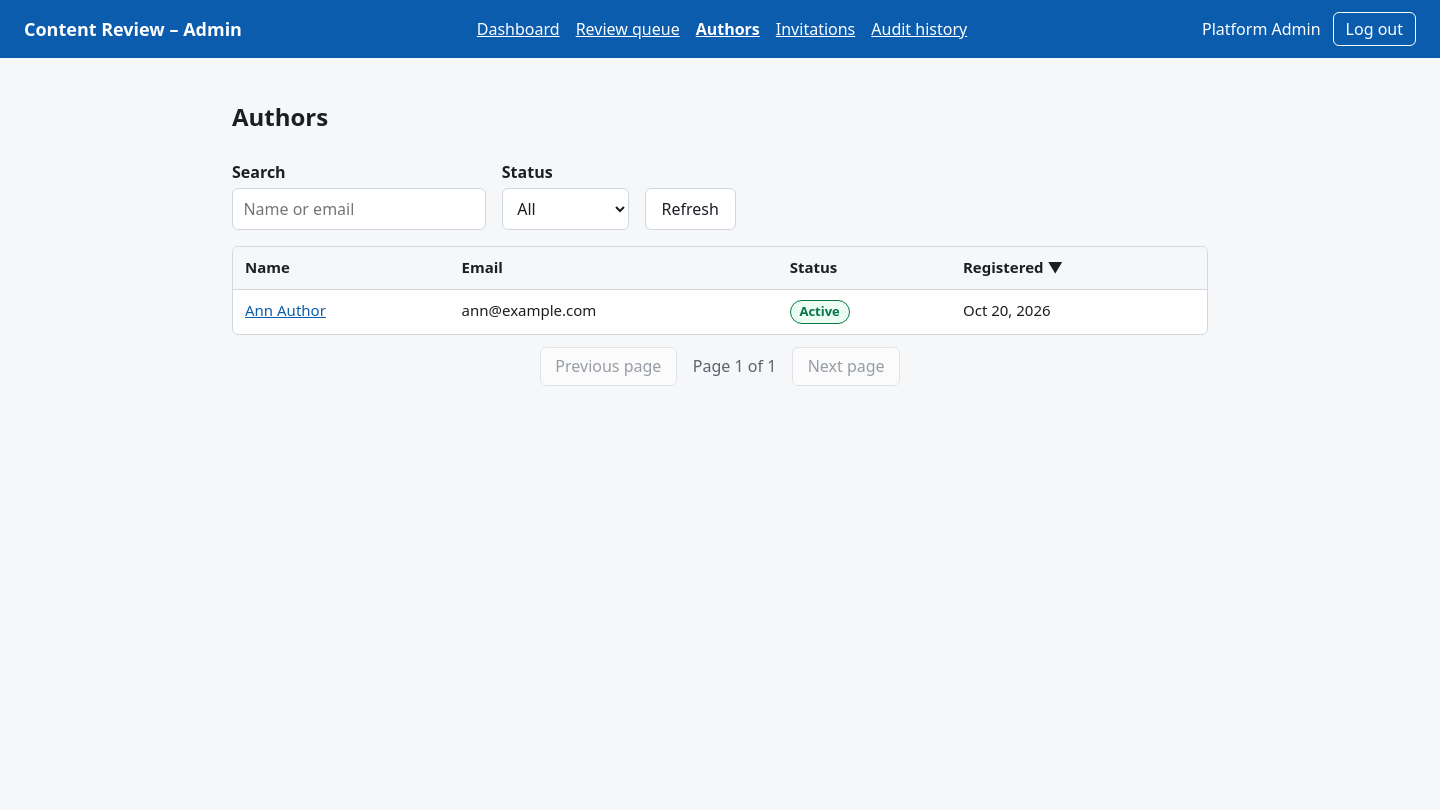
Test case: author detail › is reached by clicking a name in the list
Click the link "Ann Author" at (285, 310), box [245, 300, 326, 320]
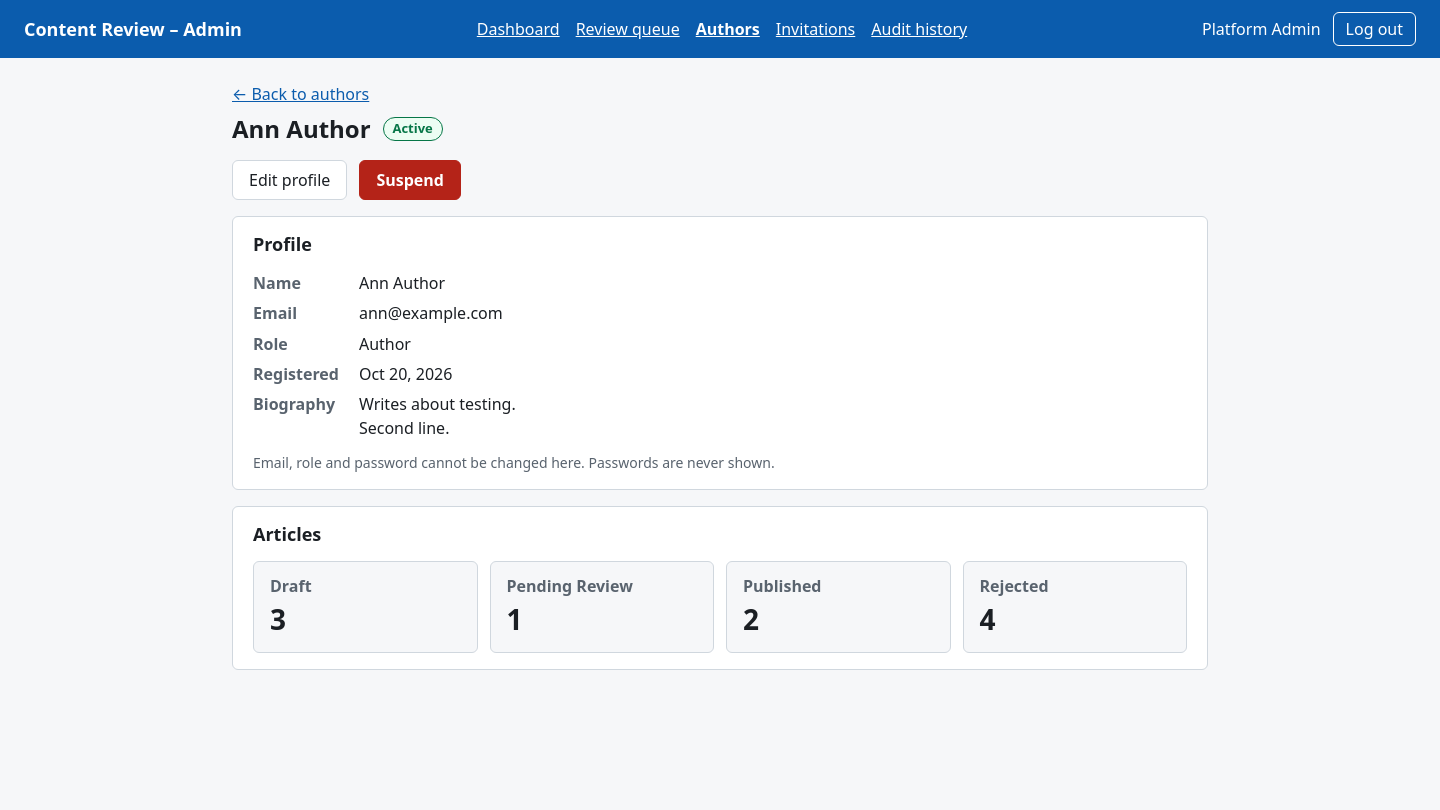
Now the list item with test id "user-count-draft" is shown, box [253, 561, 478, 653]
